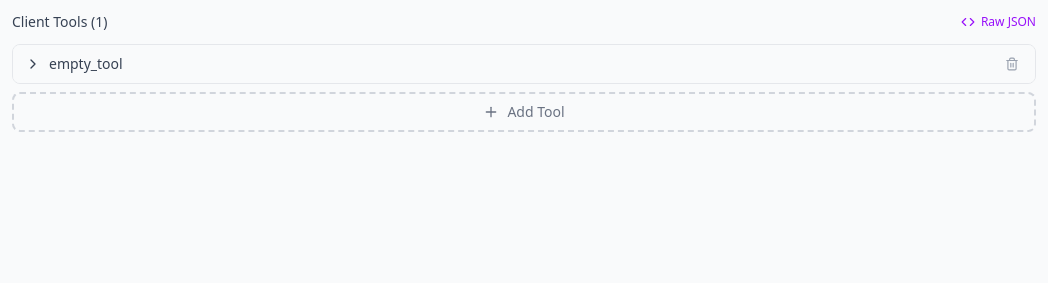
Test case: ToolBuilder › shows no parameters message when tool has none
Click the button "empty_tool" at (74, 64), box [25, 54, 123, 74]
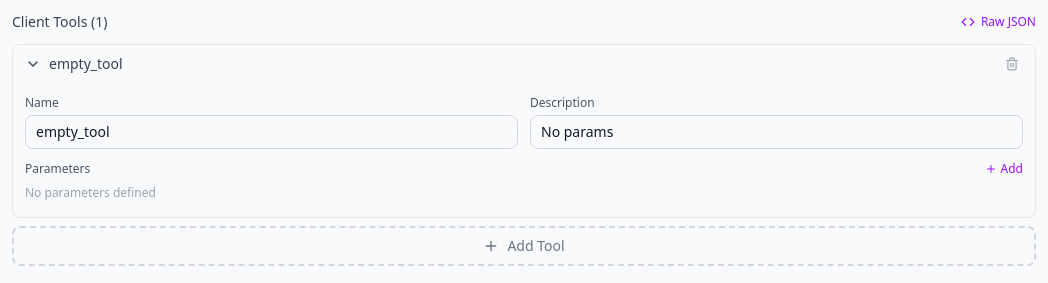
Result: the text "No parameters defined" is shown at [25, 184, 156, 201]
